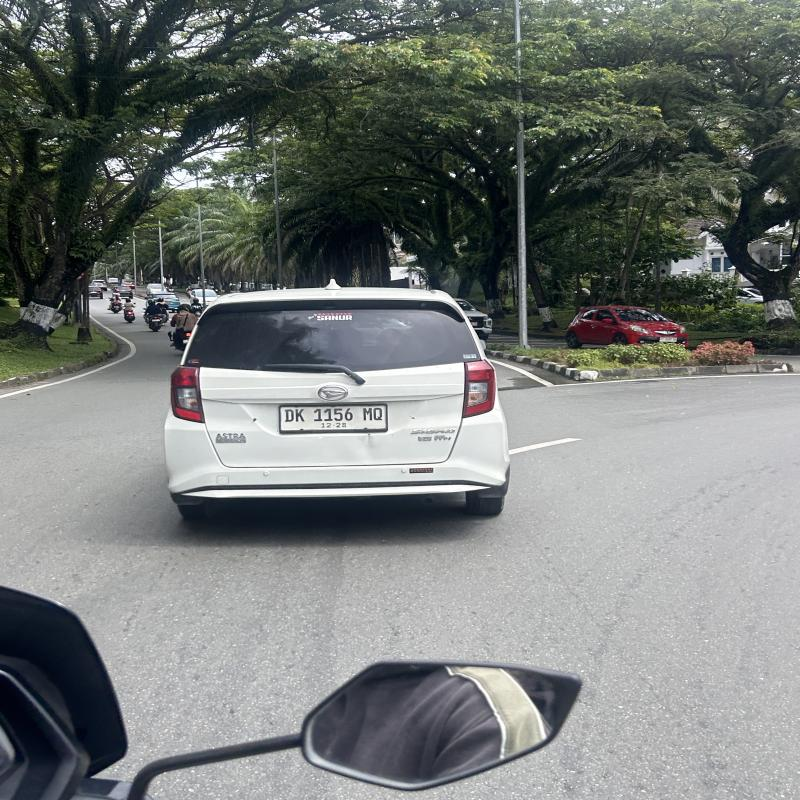license plate on a car: (278, 404, 387, 432), (660, 337, 677, 342)
